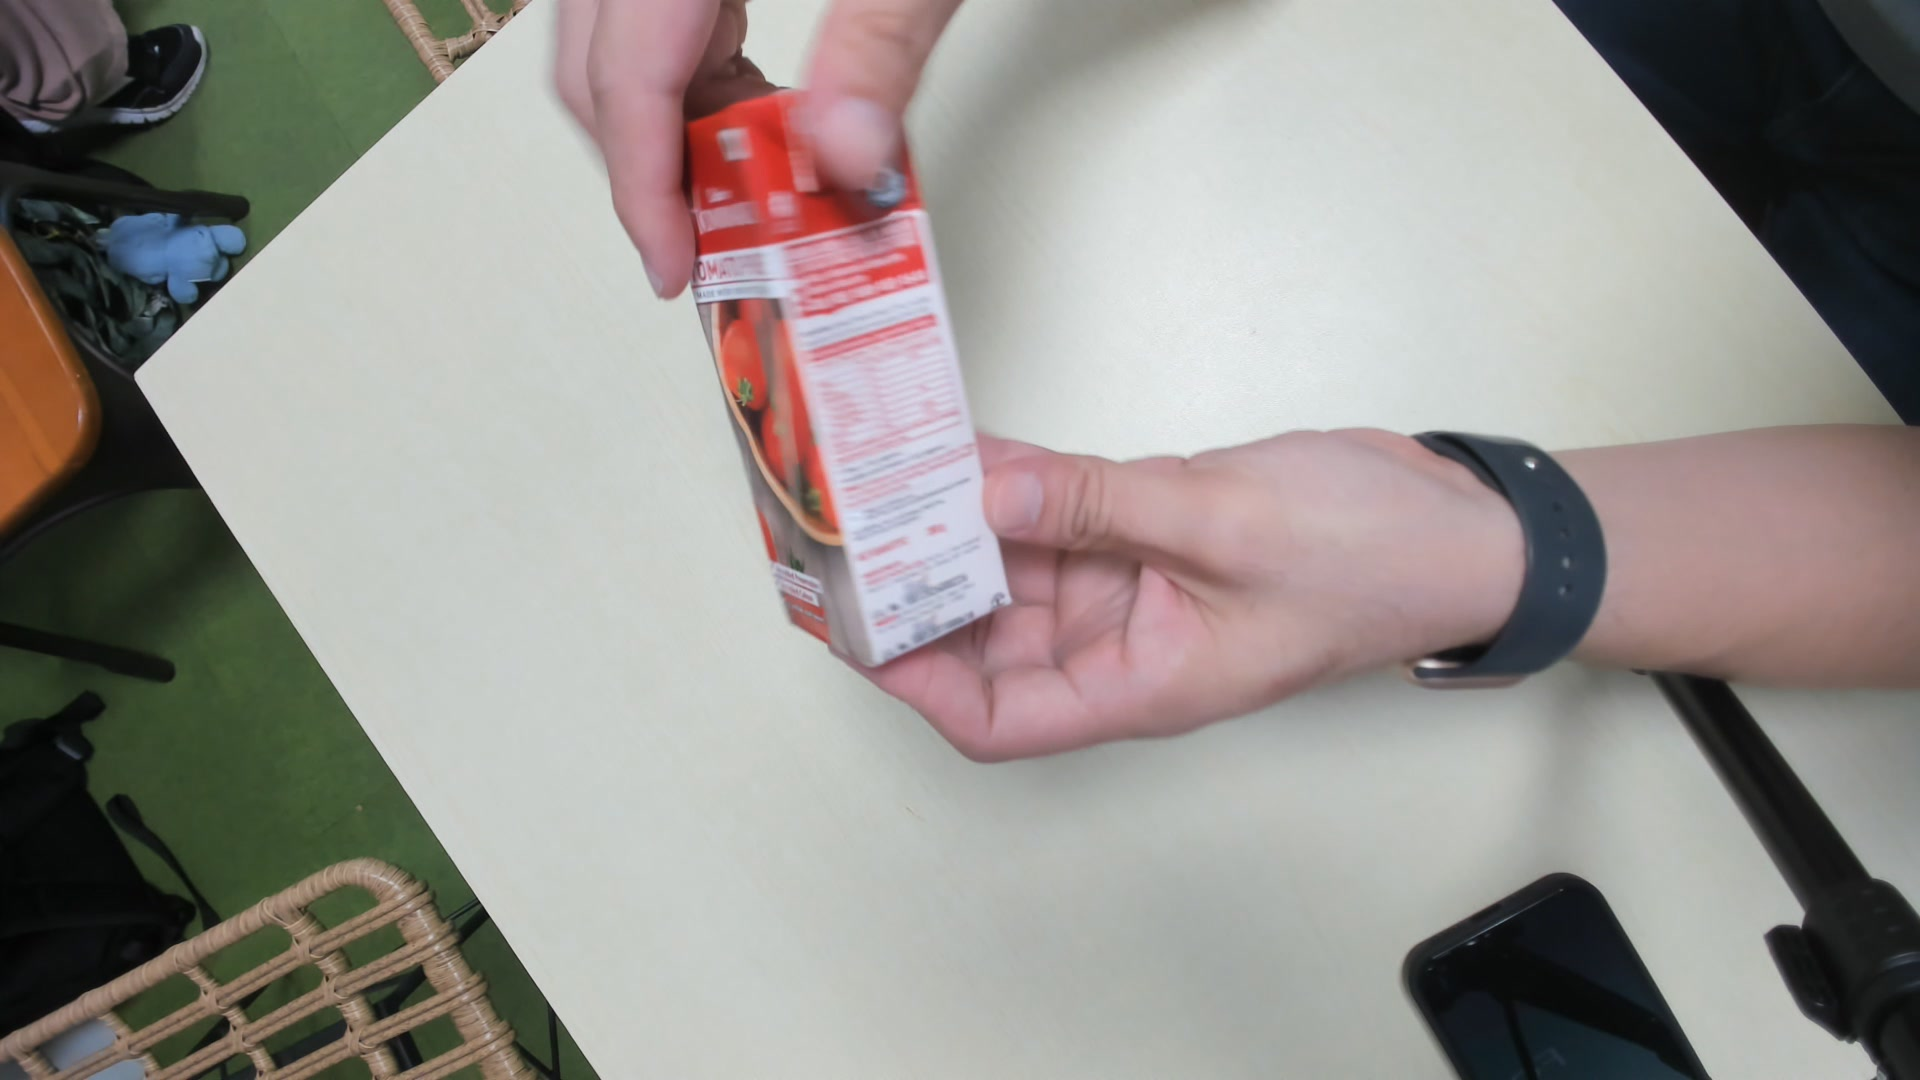OtherSauceDressing_200-299g_NonHalal_NonHealthy: (669, 83, 1009, 675)
